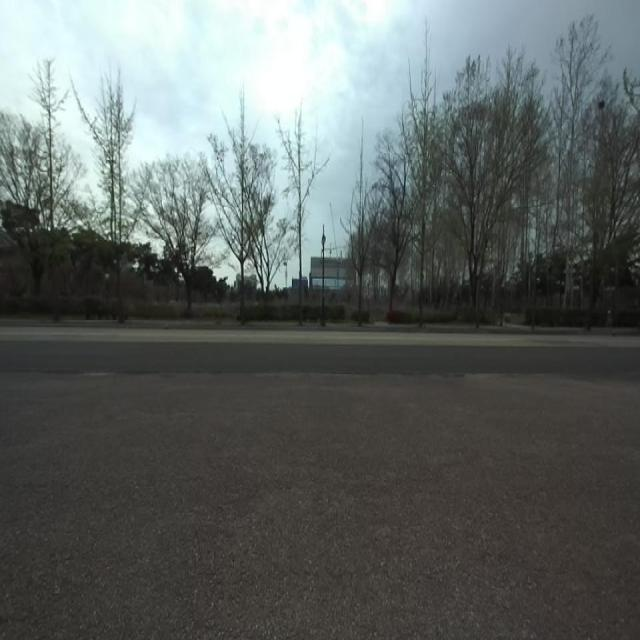sidewalk: (0, 373, 640, 639)
